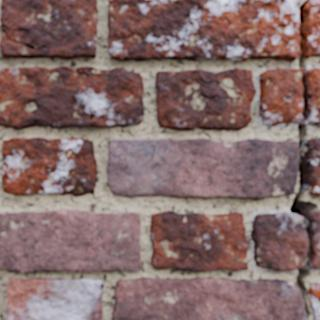brick: (108, 0, 299, 61), (107, 139, 298, 199), (0, 210, 141, 272), (0, 67, 143, 128), (112, 277, 306, 319), (156, 69, 255, 129), (150, 211, 248, 270), (0, 0, 96, 58), (1, 138, 96, 195), (7, 278, 102, 319), (303, 0, 319, 56), (306, 139, 319, 194), (308, 282, 319, 319)
broken_brick: (250, 211, 307, 272), (258, 67, 301, 127), (306, 67, 319, 127), (309, 209, 319, 268)
crack: (289, 2, 318, 317), (0, 23, 57, 51), (63, 66, 111, 76), (98, 279, 104, 290), (181, 267, 194, 271)
